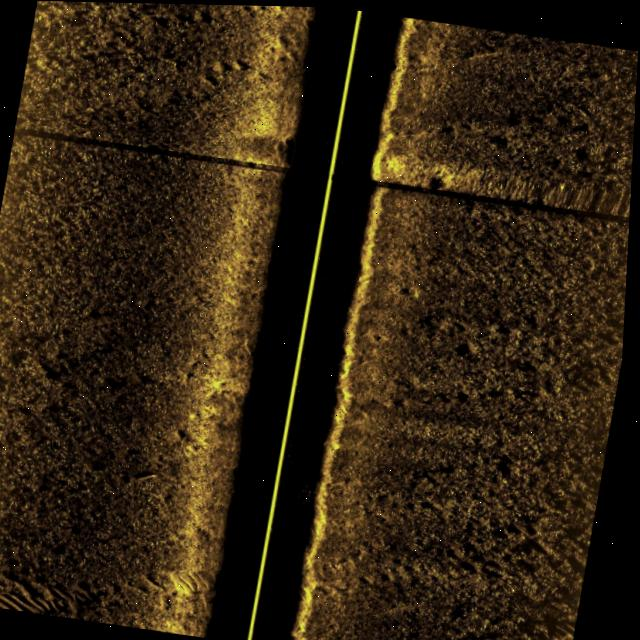mine: (131, 460, 163, 486)
